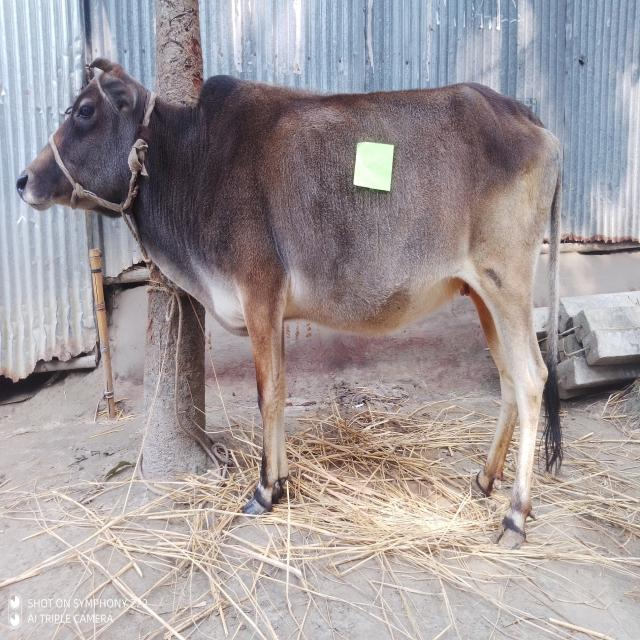badan_sapi: (240, 91, 562, 328)
sapi: (13, 58, 572, 550)
